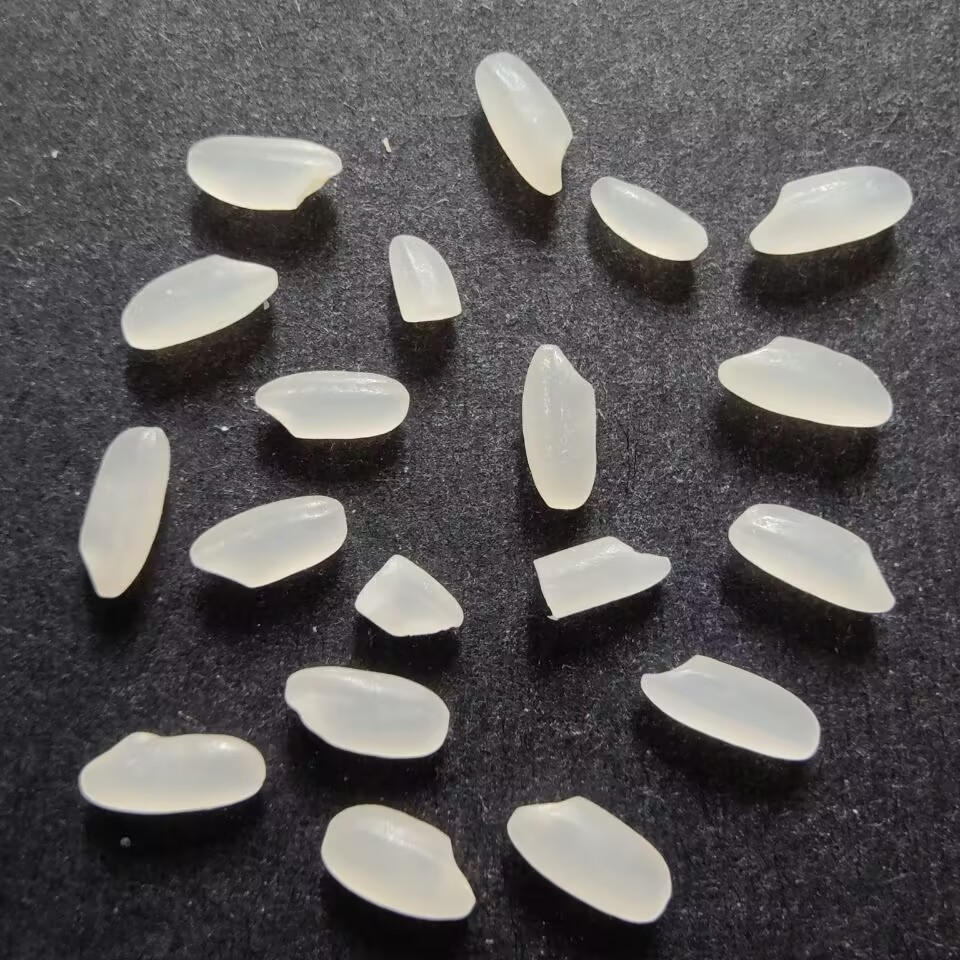broken: (530, 534, 672, 621), (350, 549, 469, 639), (383, 230, 467, 325)
rice: (503, 792, 677, 928), (638, 651, 825, 764), (319, 800, 483, 924), (726, 501, 899, 618), (712, 333, 894, 431), (75, 419, 173, 599), (114, 248, 280, 354), (73, 727, 268, 816), (183, 490, 352, 592), (281, 662, 453, 760), (471, 47, 577, 203), (745, 164, 915, 258), (518, 341, 604, 515), (181, 129, 344, 213), (250, 366, 412, 446), (586, 170, 710, 263)
